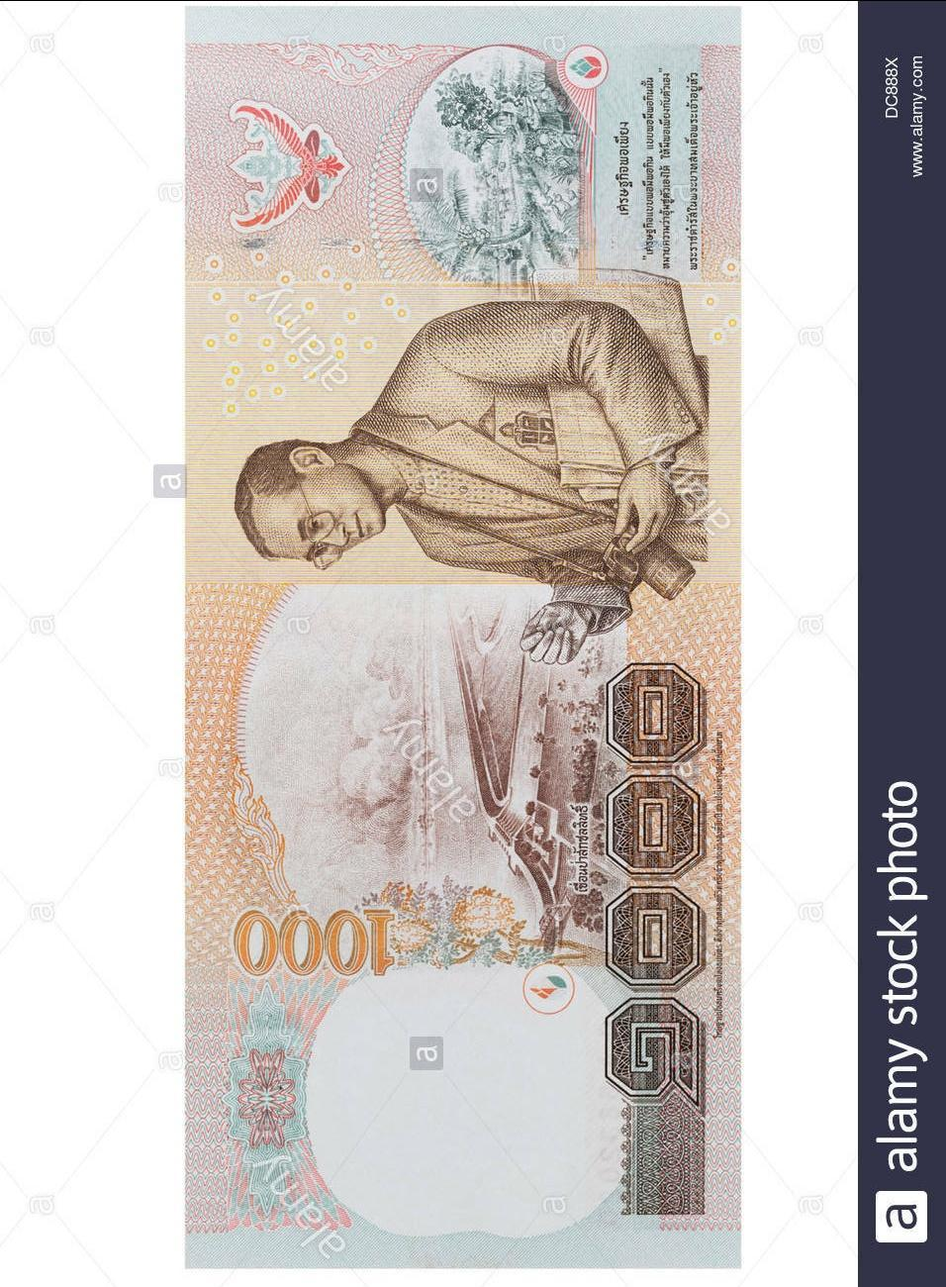1000BahtTai: (184, 14, 744, 1263)
